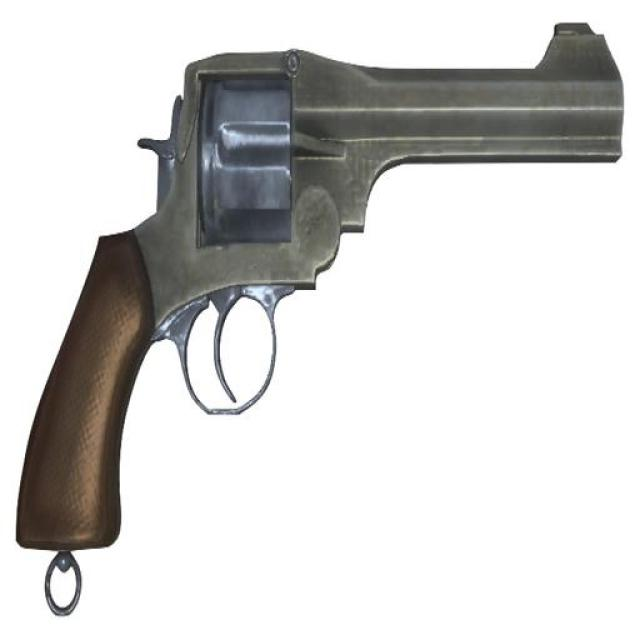pistol: (27, 17, 617, 585)
